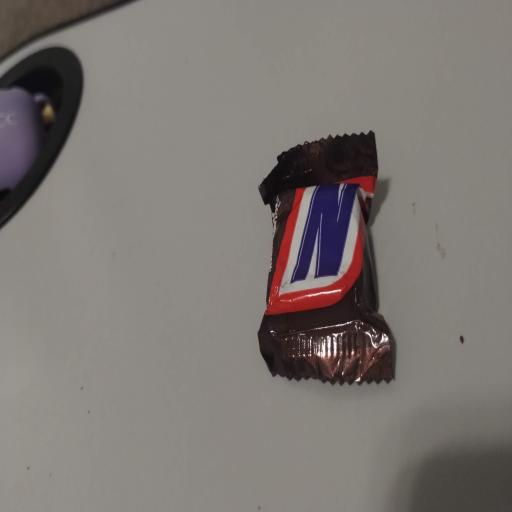chocolate: (259, 132, 392, 382)
